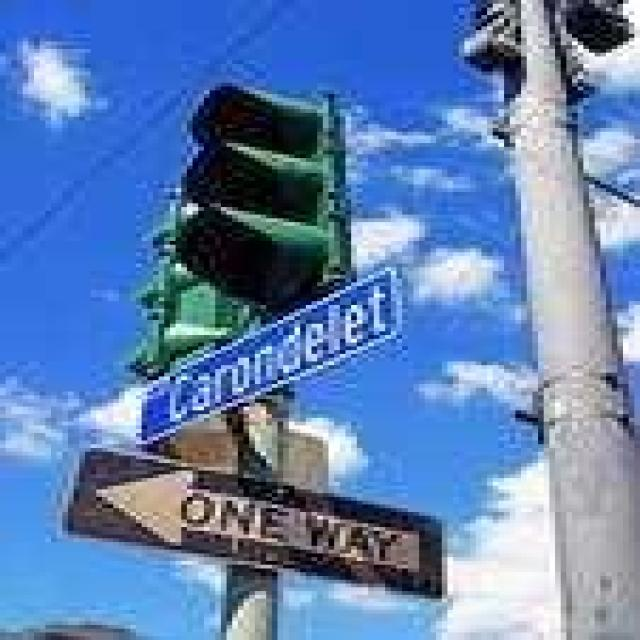Traffic Light -Green-: (170, 86, 348, 306)
